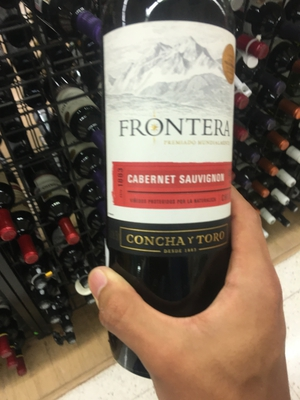frontera cabernet sauvignon: (94, 12, 261, 329)
